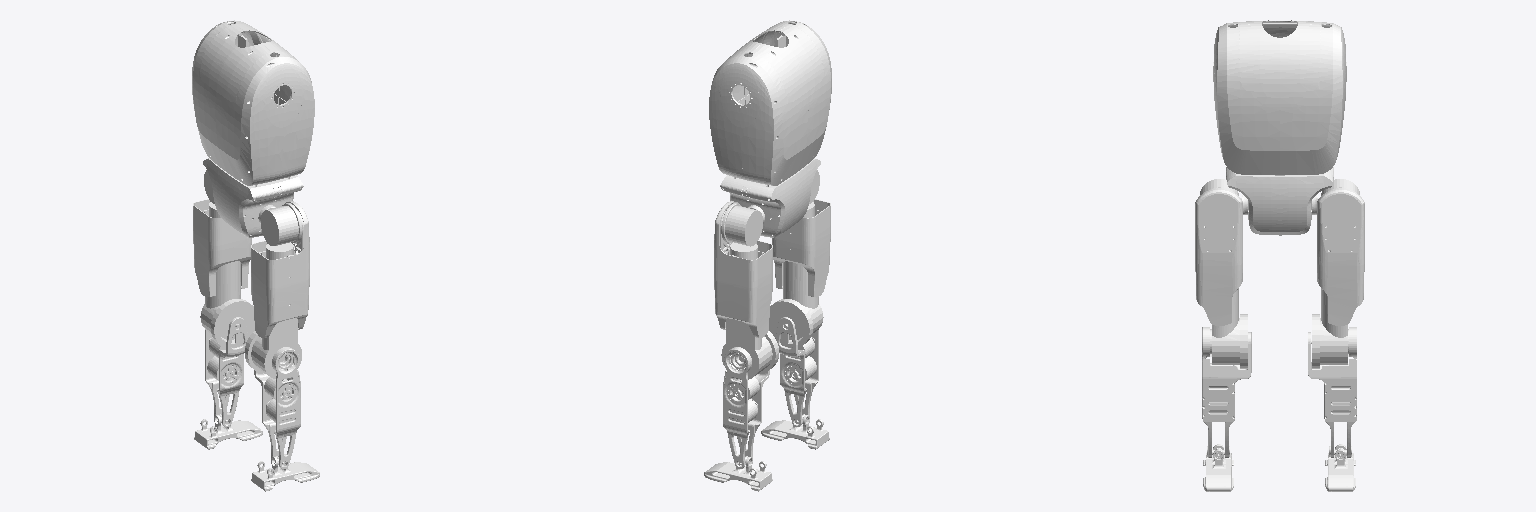
URDF robot description (hr_URDF_1023):
<?xml version="1.0" encoding="utf-8"?>
<!-- This URDF was automatically created by SolidWorks to URDF Exporter! Originally created by [author] ([email redacted]) 
     Commit Version: 1.6.0-4-g7f85cfe  Build Version: 1.6.7995.38578
     For more information, please see http://wiki.ros.org/sw_urdf_exporter -->
<robot
  name="hr_URDF_1023">
    <!-- <mujoco>
    <compiler
      meshdir="../meshes/"
    	balanceinertia="true"
    	discardvisual="false" />
    </mujoco> -->
  <link
    name="body">
    <inertial>
      <origin
        xyz="0.0017699 -0.00049125 -0.091608"
        rpy="0 0 0" />
      <mass
        value="20.6588" />
      <inertia
        ixx="0.79349"
        ixy="-6.8856E-05"
        ixz="0.0024924"
        iyy="0.47407"
        iyz="9.4071E-04"
        izz="0.42063" />
    </inertial>
    <visual>
      <origin
        xyz="0 0 0"
        rpy="0 0 0" />
      <geometry>
        <mesh
          filename="../meshes/body.STL" />
      </geometry>
      <material
        name="">
        <color
          rgba="1 1 1 1" />
      </material>
    </visual>
    <collision>
      <origin
        xyz="0 0. 0"
        rpy="0 0 0" />
      <geometry>
        <box size="0.4 0.4 0.4"/>
      </geometry>
    </collision>
    <!-- <collision>
      <origin
        xyz="0 0 0"
        rpy="0 0 0" />
      <geometry>
        <mesh
          filename="../meshes/body.STL" />
      </geometry>
    </collision> -->
  </link>
  <link
    name="waist">
    <inertial>
      <origin
        xyz="-3.8903E-06 -1.205E-06 -0.10892"
        rpy="0 0 0" />
      <mass
        value="4.2005" />
      <inertia
        ixx="0.013362"
        ixy="-5.5315E-08"
        ixz="-8.749E-09"
        iyy="0.011993"
        iyz="5.536E-08"
        izz="0.011706" />
    </inertial>
    <visual>
      <origin
        xyz="0 0 0"
        rpy="0 0 0" />
      <geometry>
        <mesh
          filename="../meshes/waist.STL" />
      </geometry>
      <material
        name="">
        <color
          rgba="1 1 1 1" />
      </material>
    </visual>
    <!-- <collision>
      <origin
        xyz="0 0 0"
        rpy="0 0 0" />
      <geometry>
        <mesh
          filename="../meshes/waist.STL" />
      </geometry>
    </collision> -->
  </link>
  <joint
    name="hip_yaw"
    type="fixed">
    <origin
      xyz="0 -2.1619E-05 -0.333"
      rpy="0 0 0" />
    <parent
      link="body" />
    <child
      link="waist" />
    <axis
      xyz="0 0 -1" />
    <limit
      lower="-3.14"
      upper="3.14"
      effort="1000"
      velocity="1000" />
  </joint>
  <link
    name="hip1l">
    <inertial>
      <origin
        xyz="-0.0023389 0.091791 -4.9742E-09"
        rpy="0 0 0" />
      <mass
        value="1.1048" />
      <inertia
        ixx="0.0024131"
        ixy="-0.00014305"
        ixz="1.1542E-11"
        iyy="0.001598"
        iyz="6.0435E-11"
        izz="0.0019103" />
    </inertial>
    <visual>
      <origin
        xyz="0 0 0"
        rpy="0 0 0" />
      <geometry>
        <mesh
          filename="../meshes/hip1l.STL" />
      </geometry>
      <material
        name="">
        <color
          rgba="1 1 1 1" />
      </material>
    </visual>
    <!-- <collision>
      <origin
        xyz="0 0 0"
        rpy="0 0 0" />
      <geometry>
        <mesh
          filename="../meshes/hip1l.STL" />
      </geometry>
    </collision> -->
  </link>
  <joint
    name="hip_pitch_l"
    type="revolute">
    <origin
      xyz="0 0.08975 -0.152"
      rpy="0 0 0" />
    <parent
      link="waist" />
    <child
      link="hip1l" />
    <axis
      xyz="0 -1 0" />
    <limit
      lower="-0.7854"
      upper="1.7"
      effort="1000"
      velocity="1000" />
  </joint>
  <link
    name="hip2l">
    <inertial>
      <origin
        xyz="0.015325 0.0016862 -0.13168"
        rpy="0 0 0" />
      <mass
        value="1.3845" />
      <inertia
        ixx="0.0096171"
        ixy="-1.6582E-07"
        ixz="-0.00044644"
        iyy="0.0082904"
        iyz="0.00018678"
        izz="0.0030488" />
    </inertial>
    <visual>
      <origin
        xyz="0 0 0"
        rpy="0 0 0" />
      <geometry>
        <mesh
          filename="../meshes/hip2l.STL" />
      </geometry>
      <material
        name="">
        <color
          rgba="1 1 1 1" />
      </material>
    </visual>
    <!-- <collision>
      <origin
        xyz="0 0 0"
        rpy="0 0 0" />
      <geometry>
        <mesh
          filename="../meshes/hip2l.STL" />
      </geometry>
    </collision> -->
  </link>
  <joint
    name="hip_roll_l"
    type="revolute">
    <origin
      xyz="-0.00725 0.099 0"
      rpy="0 0 0" />
    <parent
      link="hip1l" />
    <child
      link="hip2l" />
    <axis
      xyz="1 0 0" />
    <limit
      lower="-0.17453"
      upper="0.43633"
      effort="1000"
      velocity="1000" />
  </joint>
  <link
    name="hip3l">
    <inertial>
      <origin
        xyz="0.00023116 -0.021094 -0.19664"
        rpy="0 0 0" />
      <mass
        value="3.7995" />
      <inertia
        ixx="0.053107"
        ixy="5.4809E-05"
        ixz="0.00012206"
        iyy="0.054306"
        iyz="-0.0044831"
        izz="0.0078282" />
    </inertial>
    <visual>
      <origin
        xyz="0 0 0"
        rpy="0 0 0" />
      <geometry>
        <mesh
          filename="../meshes/hip3l.STL" />
      </geometry>
      <material
        name="">
        <color
          rgba="1 1 1 1" />
      </material>
    </visual>
    <!-- <collision>
      <origin
        xyz="0 0 0"
        rpy="0 0 0" />
      <geometry>
        <mesh
          filename="../meshes/hip3l.STL" />
      </geometry>
    </collision> -->
  </link>
  <joint
    name="hip_yaw_l"
    type="revolute">
    <origin
      xyz="0 0 -0.17"
      rpy="0 0 0" />
    <parent
      link="hip2l" />
    <child
      link="hip3l" />
    <axis
      xyz="0 0 1" />
    <limit
      lower="-0.69813"
      upper="0.69813"
      effort="1000"
      velocity="1000" />
  </joint>
  <link
    name="kneel">
    <inertial>
      <origin
        xyz="0.0053452 -0.00297 -0.14967"
        rpy="0 0 0" />
      <mass
        value="1.3857" />
      <inertia
        ixx="0.0089661"
        ixy="-1.6344E-05"
        ixz="0.00014923"
        iyy="0.0090434"
        iyz="0.0006233"
        izz="0.0012297" />
    </inertial>
    <visual>
      <origin
        xyz="0 0 0"
        rpy="0 0 0" />
      <geometry>
        <mesh
          filename="../meshes/kneel.STL" />
      </geometry>
      <material
        name="">
        <color
          rgba="1 1 1 1" />
      </material>
    </visual>
    <!-- <collision>
      <origin
        xyz="0 0 0"
        rpy="0 0 0" />
      <geometry>
        <mesh
          filename="../meshes/kneel.STL" />
      </geometry>
    </collision> -->
  </link>
  <joint
    name="knee_pitch_l"
    type="revolute">
    <origin
      xyz="0 0 -0.31"
      rpy="0 0 0" />
    <parent
      link="hip3l" />
    <child
      link="kneel" />
    <axis
      xyz="0 -1 0" />
    <limit
      lower="-2"
      upper="0"
      effort="1000"
      velocity="1000" />
  </joint>
  <link
    name="anklel">
    <inertial>
      <origin
        xyz="-5.9166E-09 -1.4565E-08 -2.4425E-15"
        rpy="0 0 0" />
      <mass
        value="0.091683" />
      <inertia
        ixx="1.5591E-05"
        ixy="7.9407E-18"
        ixz="-4.0111E-11"
        iyy="5.0081E-06"
        iyz="2.5565E-11"
        izz="1.7429E-05" />
    </inertial>
    <visual>
      <origin
        xyz="0 0 0"
        rpy="0 0 0" />
      <geometry>
        <mesh
          filename="../meshes/anklel.STL" />
      </geometry>
      <material
        name="">
        <color
          rgba="1 1 1 1" />
      </material>
    </visual>
    <!-- <collision>
      <origin
        xyz="0 0 0"
        rpy="0 0 0" />
      <geometry>
        <mesh
          filename="../meshes/anklel.STL" />
      </geometry>
    </collision> -->
  </link>
  <joint
    name="ankle_pitch_l"
    type="revolute">
    <origin
      xyz="0 0 -0.38"
      rpy="0 0 0" />
    <parent
      link="kneel" />
    <child
      link="anklel" />
    <axis
      xyz="0 -1 0" />
    <limit
      lower="-0.43644"
      upper="1.21087"
      effort="700"
      velocity="400" />
  </joint>
  <link
    name="feetl">
    <inertial>
      <origin
        xyz="0.02066 -1.7433E-07 -0.053808"
        rpy="0 0 0" />
      <mass
        value="1.1444" />
      <inertia
        ixx="0.0009116"
        ixy="8.4048E-09"
        ixz="0.00027066"
        iyy="0.0049323"
        iyz="-2.1671E-09"
        izz="0.0053233" />
    </inertial>
    <visual>
      <origin
        xyz="0 0 0"
        rpy="0 0 0" />
      <geometry>
        <mesh
          filename="../meshes/feetl.STL" />
      </geometry>
      <material
        name="">
        <color
          rgba="1 1 1 1" />
      </material>
    </visual>
    <collision>
      <origin
        xyz="0 0 0"
        rpy="0 0 0" />
      <geometry>
        <mesh
          filename="../meshes/feetl.STL" />
      </geometry>
    </collision>
  </link>
  <joint
    name="ankle_roll_l"
    type="revolute">
    <origin
      xyz="0 0 0"
      rpy="0 0 0" />
    <parent
      link="anklel" />
    <child
      link="feetl" />
    <axis
      xyz="1 0 0" />
    <limit
      lower="-0.43633"
      upper="0.43633"
      effort="700"
      velocity="400" />
  </joint>
  <link
    name="hip1r">
    <inertial>
      <origin
        xyz="-0.0044197 -0.091815 4.9742E-09"
        rpy="0 0 0" />
      <mass
        value="1.1048" />
      <inertia
        ixx="0.0024131"
        ixy="0.00014305"
        ixz="-1.1542E-11"
        iyy="0.001598"
        iyz="6.0435E-11"
        izz="0.0019103" />
    </inertial>
    <visual>
      <origin
        xyz="0 0 0"
        rpy="0 0 0" />
      <geometry>
        <mesh
          filename="../meshes/hip1r.STL" />
      </geometry>
      <material
        name="">
        <color
          rgba="1 1 1 1" />
      </material>
    </visual>
    <!-- <collision>
      <origin
        xyz="0 0 0"
        rpy="0 0 0" />
      <geometry>
        <mesh
          filename="../meshes/hip1r.STL" />
      </geometry>
    </collision> -->
  </link>
  <joint
    name="hip_pitch_r"
    type="revolute">
    <origin
      xyz="0.0020762 -0.089726 -0.152"
      rpy="0 0 0" />
    <parent
      link="waist" />
    <child
      link="hip1r" />
    <axis
      xyz="0 -1 0" />
    <limit
      lower="-0.7854"
      upper="1.7"
      effort="1000"
      velocity="1000" />
  </joint>
  <link
    name="hip2r">
    <inertial>
      <origin
        xyz="0.015305 -0.001663 -0.1317"
        rpy="0 0 0" />
      <mass
        value="1.3844" />
      <inertia
        ixx="0.0096137"
        ixy="-2.4821E-07"
        ixz="-0.00044658"
        iyy="0.0082871"
        iyz="-0.00018913"
        izz="0.0030484" />
    </inertial>
    <visual>
      <origin
        xyz="0 0 0"
        rpy="0 0 0" />
      <geometry>
        <mesh
          filename="../meshes/hip2r.STL" />
      </geometry>
      <material
        name="">
        <color
          rgba="1 1 1 1" />
      </material>
    </visual>
    <!-- <collision>
      <origin
        xyz="0 0 0"
        rpy="0 0 0" />
      <geometry>
        <mesh
          filename="../meshes/hip2r.STL" />
      </geometry>
    </collision> -->
  </link>
  <joint
    name="hip_roll_r"
    type="revolute">
    <origin
      xyz="-0.0093308 -0.099024 0"
      rpy="0 0 0" />
    <parent
      link="hip1r" />
    <child
      link="hip2r" />
    <axis
      xyz="1 0 0" />
    <limit
      lower="-0.43633"
      upper="0.17453"
      effort="1000"
      velocity="1000" />
  </joint>
  <link
    name="hip3r">
    <inertial>
      <origin
        xyz="0.00023118 0.021094 -0.19664"
        rpy="0 0 0" />
      <mass
        value="3.7995" />
      <inertia
        ixx="0.053107"
        ixy="-5.4809E-05"
        ixz="0.00012206"
        iyy="0.054306"
        iyz="0.0044831"
        izz="0.0078282" />
    </inertial>
    <visual>
      <origin
        xyz="0 0 0"
        rpy="0 0 0" />
      <geometry>
        <mesh
          filename="../meshes/hip3r.STL" />
      </geometry>
      <material
        name="">
        <color
          rgba="1 1 1 1" />
      </material>
    </visual>
    <!-- <collision>
      <origin
        xyz="0 0 0"
        rpy="0 0 0" />
      <geometry>
        <mesh
          filename="../meshes/hip3r.STL" />
      </geometry>
    </collision> -->
  </link>
  <joint
    name="hip_yaw_r"
    type="revolute">
    <origin
      xyz="0 0 -0.17"
      rpy="0 0 0" />
    <parent
      link="hip2r" />
    <child
      link="hip3r" />
    <axis
      xyz="0 0 1" />
    <limit
      lower="-0.69813"
      upper="0.69813"
      effort="1000"
      velocity="1000" />
  </joint>
  <link
    name="kneer">
    <inertial>
      <origin
        xyz="0.0053451 0.0012199 -0.14967"
        rpy="0 0 0" />
      <mass
        value="1.3857" />
      <inertia
        ixx="0.0089662"
        ixy="1.6342E-05"
        ixz="0.00014921"
        iyy="0.0090435"
        iyz="-0.00062329"
        izz="0.0012297" />
    </inertial>
    <visual>
      <origin
        xyz="0 0 0"
        rpy="0 0 0" />
      <geometry>
        <mesh
          filename="../meshes/kneer.STL" />
      </geometry>
      <material
        name="">
        <color
          rgba="1 1 1 1" />
      </material>
    </visual>
    <!-- <collision>
      <origin
        xyz="0 0 0"
        rpy="0 0 0" />
      <geometry>
        <mesh
          filename="../meshes/kneer.STL" />
      </geometry>
    </collision> -->
  </link>
  <joint
    name="knee_pitch_r"
    type="revolute">
    <origin
      xyz="0 0 -0.31"
      rpy="0 0 0" />
    <parent
      link="hip3r" />
    <child
      link="kneer" />
    <axis
      xyz="0 -1 0" />
    <limit
      lower="-2"
      upper="0"
      effort="1000"
      velocity="1000" />
  </joint>
  <link
    name="ankler">
    <inertial>
      <origin
        xyz="-5.9166E-09 -1.4565E-08 -4.4409E-16"
        rpy="0 0 0" />
      <mass
        value="0.091683" />
      <inertia
        ixx="1.5591E-05"
        ixy="7.958E-18"
        ixz="-4.0111E-11"
        iyy="5.0081E-06"
        iyz="2.5565E-11"
        izz="1.7429E-05" />
    </inertial>
    <visual>
      <origin
        xyz="0 0 0"
        rpy="0 0 0" />
      <geometry>
        <mesh
          filename="../meshes/ankler.STL" />
      </geometry>
      <material
        name="">
        <color
          rgba="1 1 1 1" />
      </material>
    </visual>
    <!-- <collision>
      <origin
        xyz="0 0 0"
        rpy="0 0 0" />
      <geometry>
        <mesh
          filename="../meshes/ankler.STL" />
      </geometry>
    </collision> -->
  </link>
  <joint
    name="ankle_pitch_r"
    type="revolute">
    <origin
      xyz="0 -0.00175 -0.38"
      rpy="0 0 0" />
    <parent
      link="kneer" />
    <child
      link="ankler" />
    <axis
      xyz="0 -1 0" />
    <limit
      lower="-0.43644"
      upper="1.21087"
      effort="700"
      velocity="400" />
  </joint>
  <link
    name="feetr">
    <inertial>
      <origin
        xyz="0.02066 -1.745E-07 -0.053808"
        rpy="0 0 0" />
      <mass
        value="1.1444" />
      <inertia
        ixx="0.0009116"
        ixy="8.4237E-09"
        ixz="0.00027066"
        iyy="0.0049323"
        iyz="-2.1807E-09"
        izz="0.0053233" />
    </inertial>
    <visual>
      <origin
        xyz="0 0 0"
        rpy="0 0 0" />
      <geometry>
        <mesh
          filename="../meshes/feetr.STL" />
      </geometry>
      <material
        name="">
        <color
          rgba="1 1 1 1" />
      </material>
    </visual>
    <collision>
      <origin
        xyz="0 0 0"
        rpy="0 0 0" />
      <geometry>
        <mesh
          filename="../meshes/feetr.STL" />
      </geometry>
    </collision>
  </link>
  <joint
    name="ankle_roll_r"
    type="revolute">
    <origin
      xyz="0 0 0"
      rpy="0 0 0" />
    <parent
      link="ankler" />
    <child
      link="feetr" />
    <axis
      xyz="1 0 0" />
    <limit
      lower="-0.43633"
      upper="0.43633"
      effort="700"
      velocity="400" />
  </joint>
</robot>

--- Render facts (derived) ---
The picture shows the robot from 3 angles, left to right: view 1: azimuth 30°, elevation 25°; view 2: azimuth 150°, elevation 25°; view 3: azimuth 270°, elevation 25°; orthographic projection.
Model hr_URDF_1023 with 14 links and 13 joints (12 revolute, 1 fixed), rooted at body, posed every joint at zero.
Visible links, largest first — view 1: body, hip2r, hip2l, waist, kneer, kneel, hip3l, hip3r, hip1r, feetr, feetl; view 2: body, hip2l, hip2r, waist, kneel, kneer, hip3r, hip3l, hip1l, feetr, feetl; view 3: body, hip2l, hip2r, waist, kneer, kneel, hip3l, hip3r, feetl, feetr.
Boxes of the visible links, x1=… form: body: x1=192, y1=20, x2=314, y2=185; hip2r: x1=251, y1=201, x2=309, y2=337; hip2l: x1=193, y1=199, x2=251, y2=296; waist: x1=203, y1=158, x2=303, y2=237; kneer: x1=254, y1=347, x2=300, y2=468; kneel: x1=205, y1=317, x2=247, y2=426; hip3l: x1=200, y1=261, x2=254, y2=347; hip3r: x1=244, y1=318, x2=301, y2=378; hip1r: x1=258, y1=203, x2=302, y2=245; feetr: x1=251, y1=454, x2=319, y2=491; feetl: x1=194, y1=412, x2=262, y2=449; body: x1=709, y1=20, x2=831, y2=185; hip2l: x1=714, y1=201, x2=772, y2=338; hip2r: x1=772, y1=199, x2=830, y2=297; waist: x1=720, y1=158, x2=820, y2=237; kneel: x1=723, y1=347, x2=769, y2=468; kneer: x1=775, y1=317, x2=818, y2=426; hip3r: x1=769, y1=261, x2=823, y2=347; hip3l: x1=721, y1=318, x2=778, y2=379; hip1l: x1=721, y1=203, x2=764, y2=246; feetr: x1=761, y1=412, x2=829, y2=449; feetl: x1=704, y1=454, x2=772, y2=491; body: x1=1213, y1=20, x2=1346, y2=174; hip2l: x1=1317, y1=188, x2=1364, y2=325; hip2r: x1=1195, y1=188, x2=1242, y2=325; waist: x1=1226, y1=166, x2=1333, y2=235; kneer: x1=1202, y1=327, x2=1251, y2=457; kneel: x1=1308, y1=327, x2=1356, y2=457; hip3l: x1=1311, y1=288, x2=1347, y2=368; hip3r: x1=1212, y1=288, x2=1247, y2=368; feetl: x1=1325, y1=444, x2=1355, y2=491; feetr: x1=1203, y1=444, x2=1233, y2=491.
Size in the robot's own frame: 0.2913 by 0.5266 by 1.55 metres.
Meshes: 14 distinct files referenced, 14 mesh visuals loaded (14 binary STL).